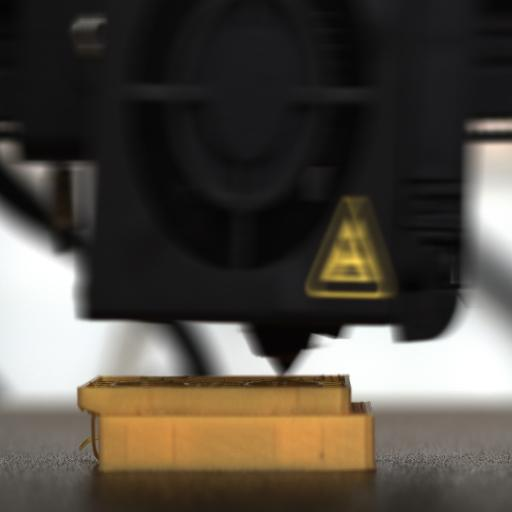layer_shift: (76, 402, 377, 420)
